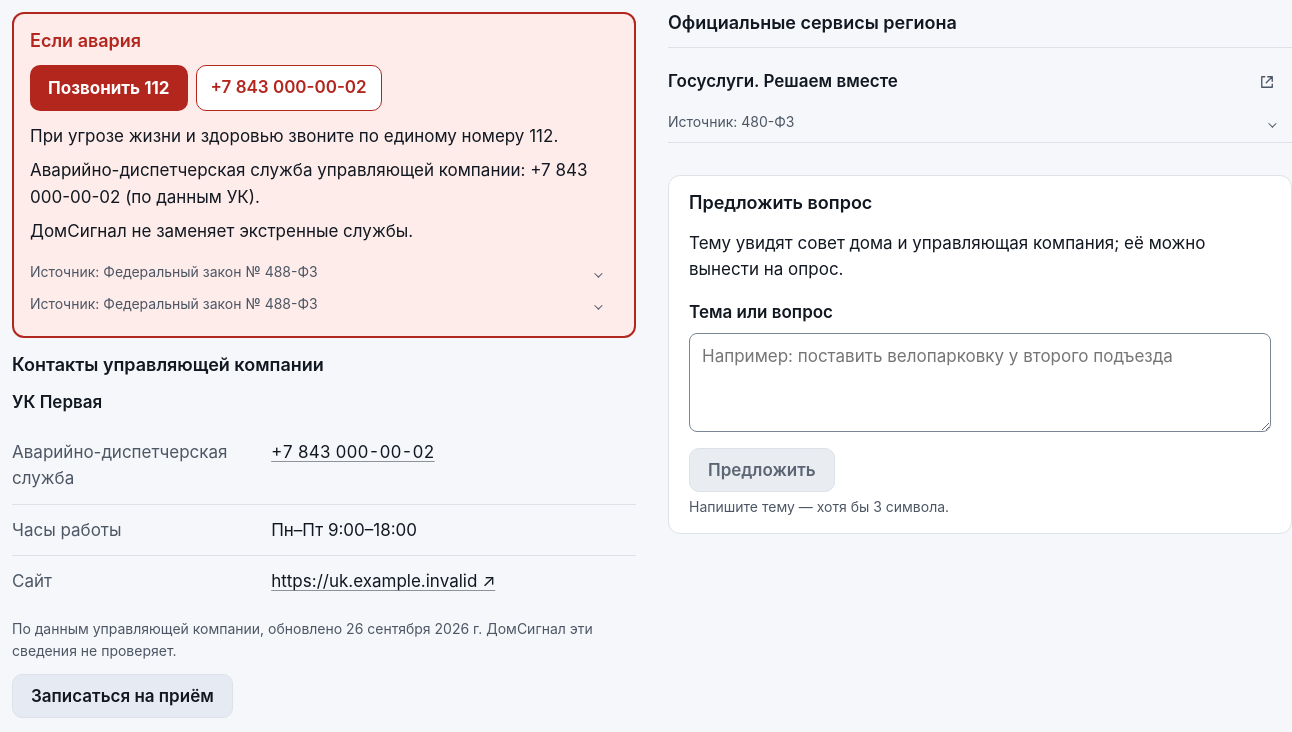
Scenario: Совет дома и «Предложить вопрос» (D4) › житель предлагает тему и видит её со статусом «Ждёт рассмотрения»; панели совета нет
Expected: the heading "Предложить вопрос" is shown, [689,192,872,212]
Expected: the text "Тему увидят совет дома и управляющая компания; её можно вынести на опрос." is shown, [689,230,1271,283]
Type "  Покрасить скамейки во дворе " into the text box labelled "Тема или вопрос" at (980, 382), box [689,333,1271,432]
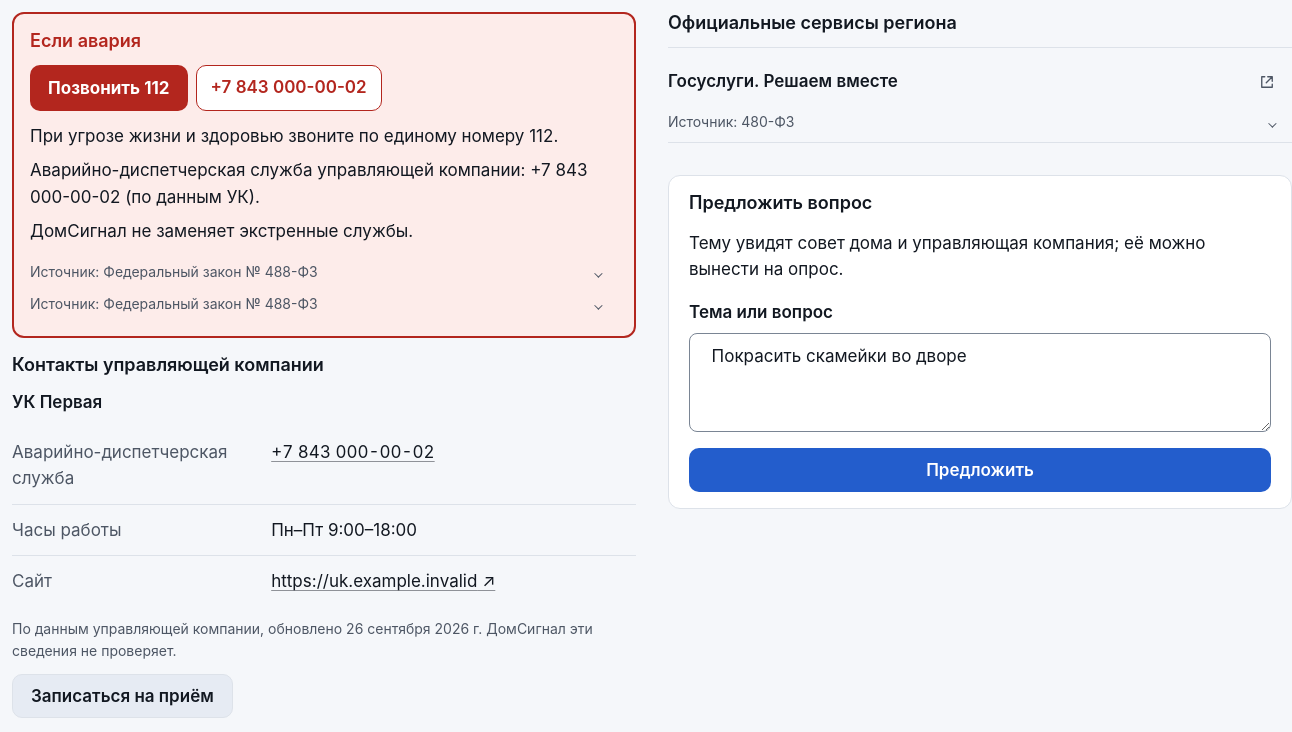
Click the button "Предложить" at (980, 470), box [689,448,1271,492]
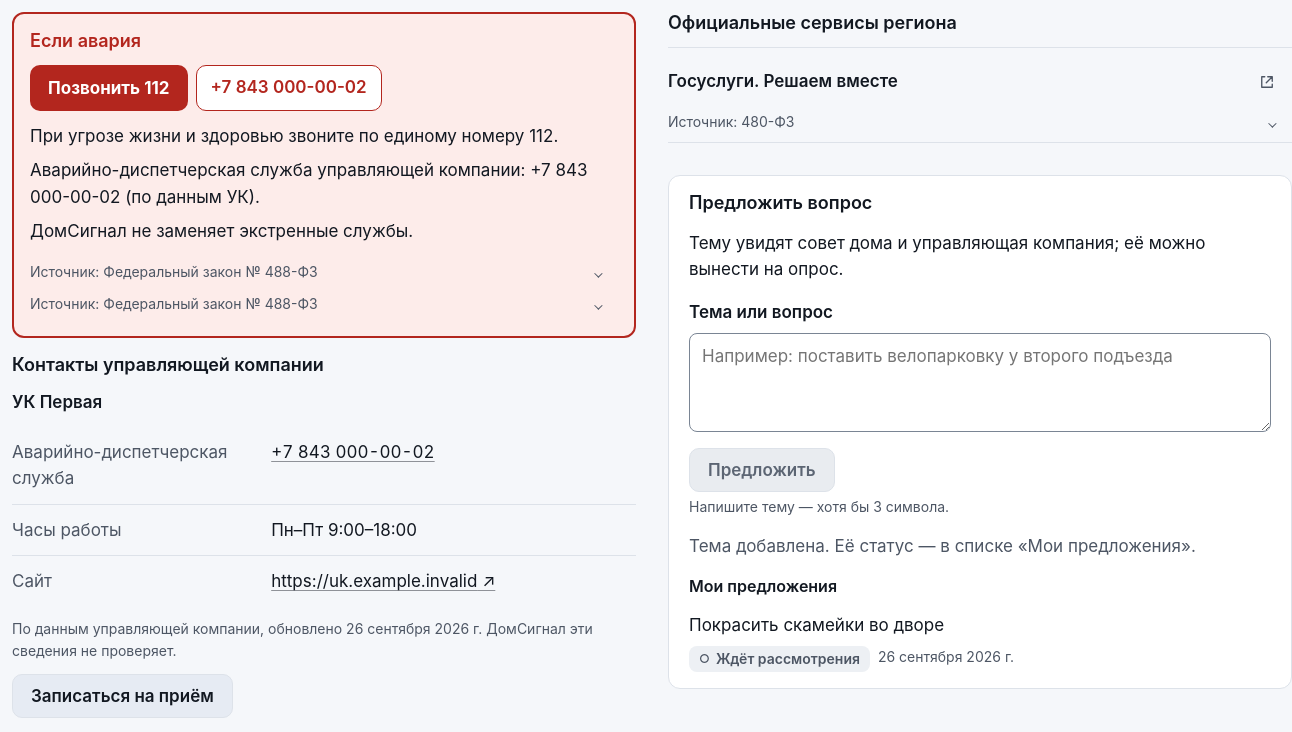
Now the text "Покрасить скамейки во дворе" is shown, box [689,615,944,635]
Now the text "Ждёт рассмотрения" is shown, box [689,646,870,672]
Now the text "Тема добавлена. Её статус — в списке «Мои предложения»." is shown, box [689,533,1271,560]
